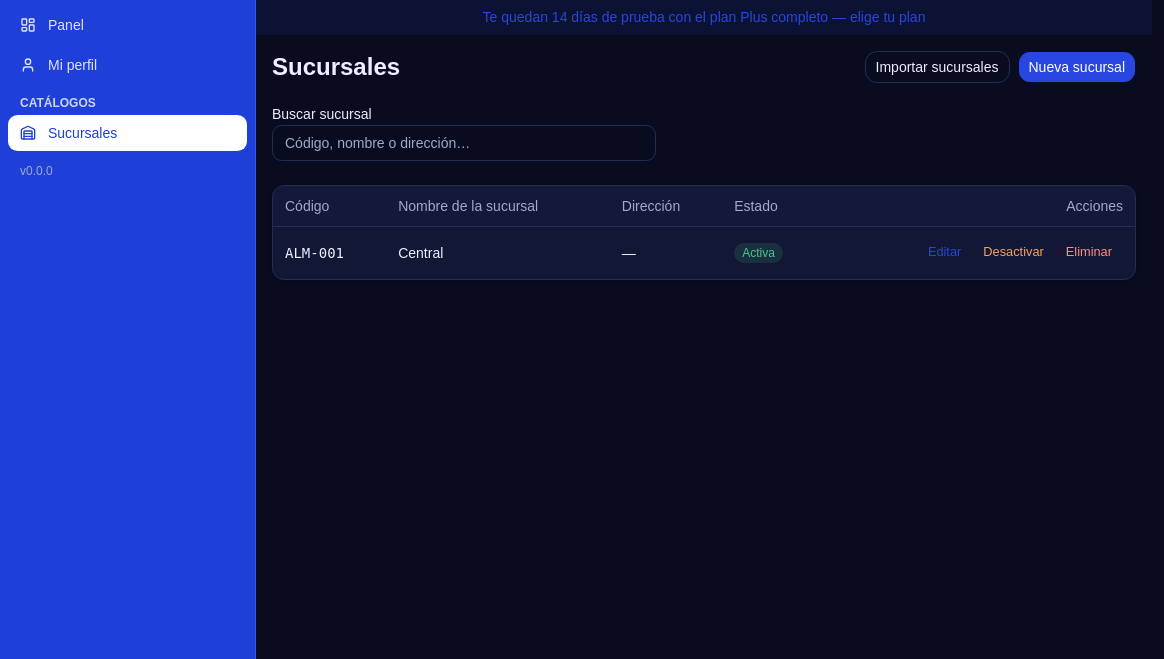
Test case: contacto y campos dinámicos de la sucursal (2026-08-26) › al editar, el E.164 guardado se descompone en país + número
What coordinates should you click on to do the following:
click the button "Editar"
I would click on:
 (945, 252)
Its box is [917, 238, 972, 266].
(page scrolled)
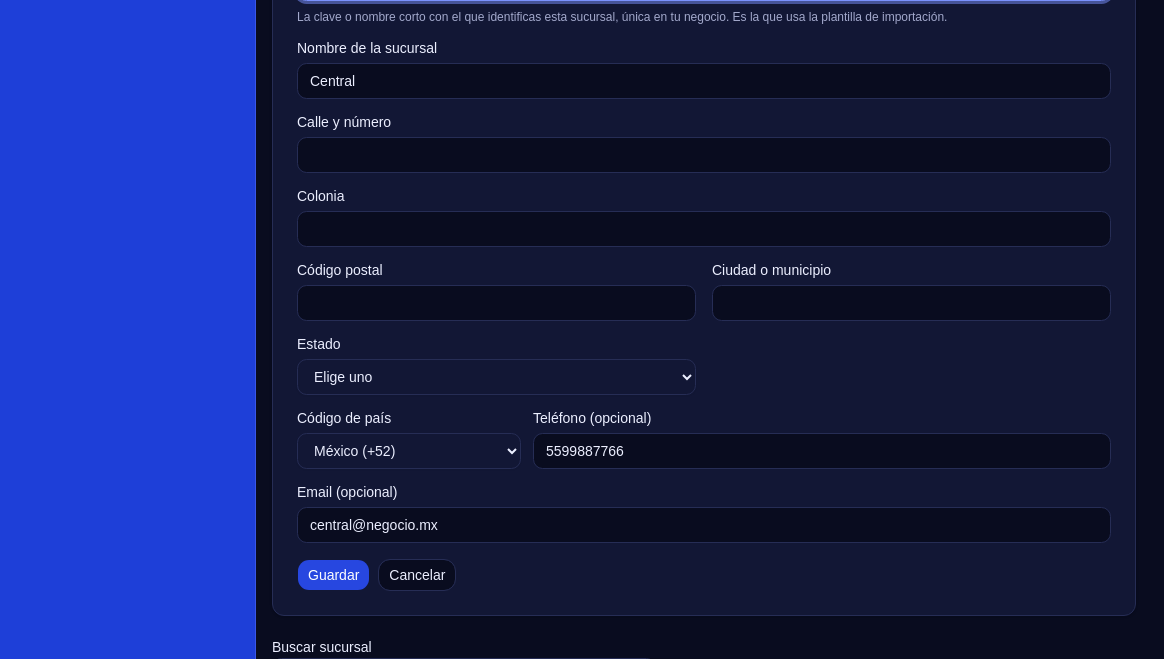
Expected: the dropdown labelled "Código de país" shows "México (+52)", [297, 433, 521, 469]
Expected: the field labelled "Teléfono (opcional)" holds "5599887766", [533, 433, 1111, 469]
Expected: the field labelled "Email (opcional)" holds "central@negocio.mx", [297, 507, 1111, 543]
